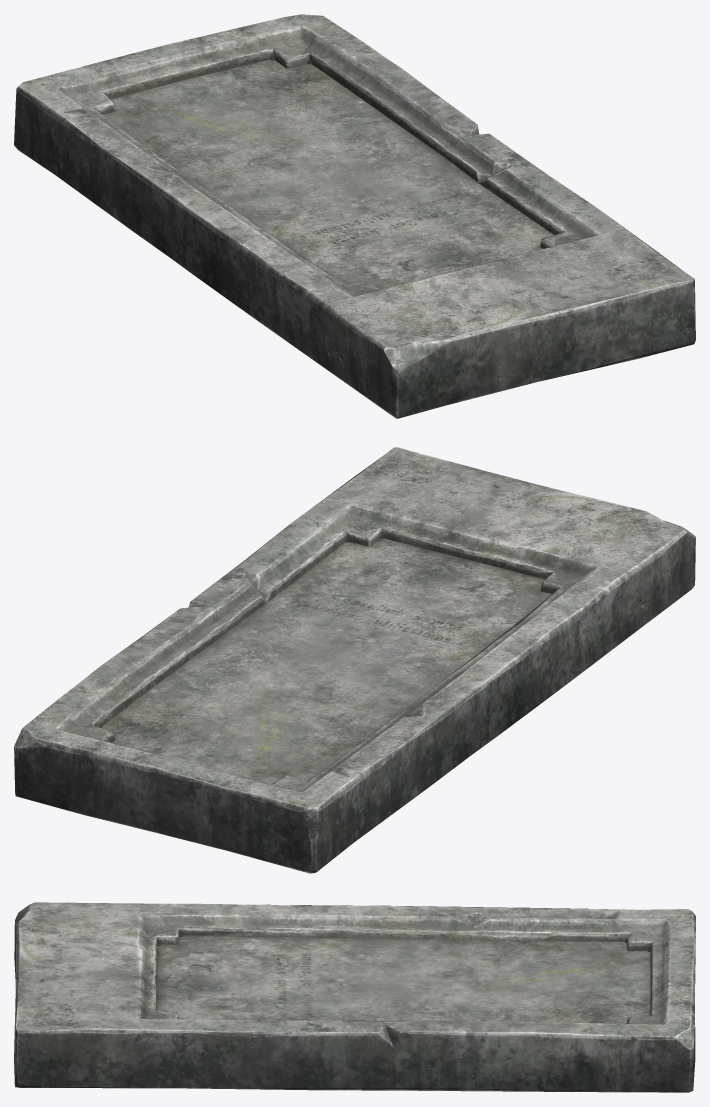
The picture shows the model from 3 angles, top to bottom: view 1: azimuth 30°, elevation 25°; view 2: azimuth 150°, elevation 25°; view 3: azimuth 270°, elevation 25°; orthographic projection. The views are drawn at different scales.
Parts seen in each view (by area): view 1: SM_Human_Gravestone_Base_01_LOD0; view 2: SM_Human_Gravestone_Base_01_LOD0; view 3: SM_Human_Gravestone_Base_01_LOD0.
Boxes of the visible parts, <box> form: SM_Human_Gravestone_Base_01_LOD0: <box>14,14,695,418</box>; SM_Human_Gravestone_Base_01_LOD0: <box>14,447,695,873</box>; SM_Human_Gravestone_Base_01_LOD0: <box>14,902,695,1092</box>.
Bounding box in the file's own units: 1.61 × 0.3803 × 3.51.
Materials: 2 (2 with a texture image).
